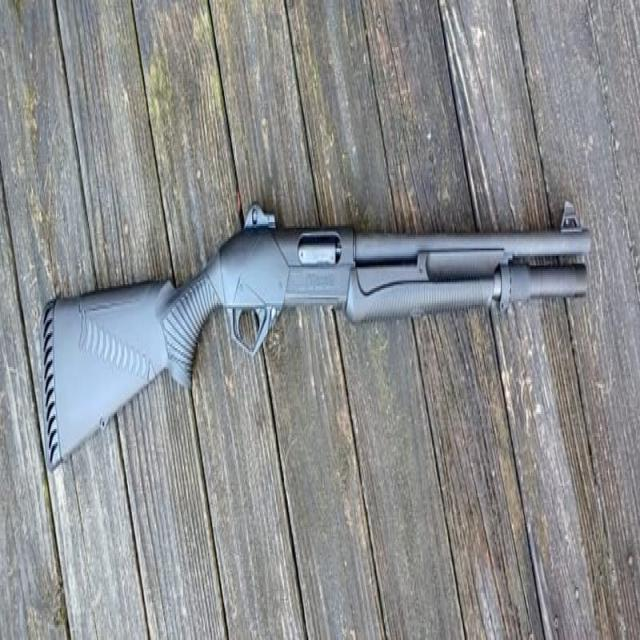ShotGun: (42, 205, 592, 472)
